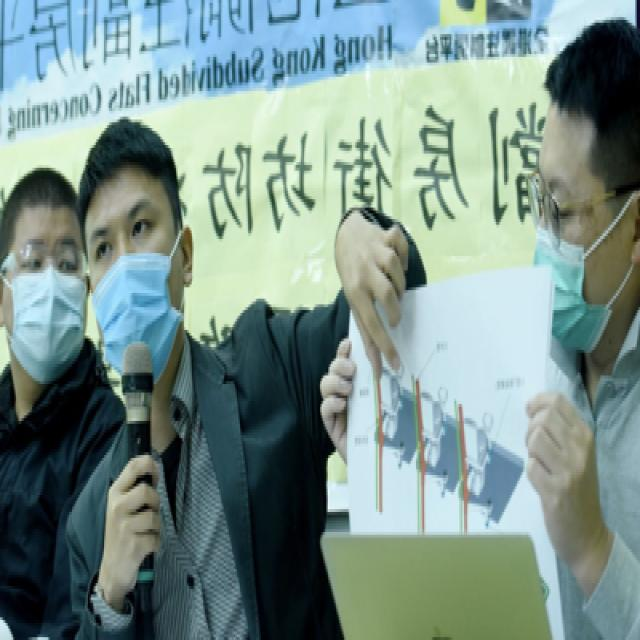with_mask: (530, 156, 632, 358), (85, 190, 184, 392), (2, 222, 92, 387)
